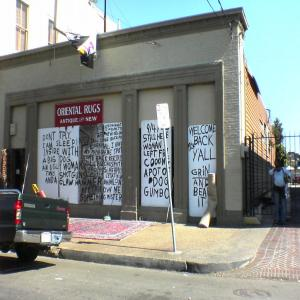Vehicle-registration-plate: (43, 233, 53, 244)
